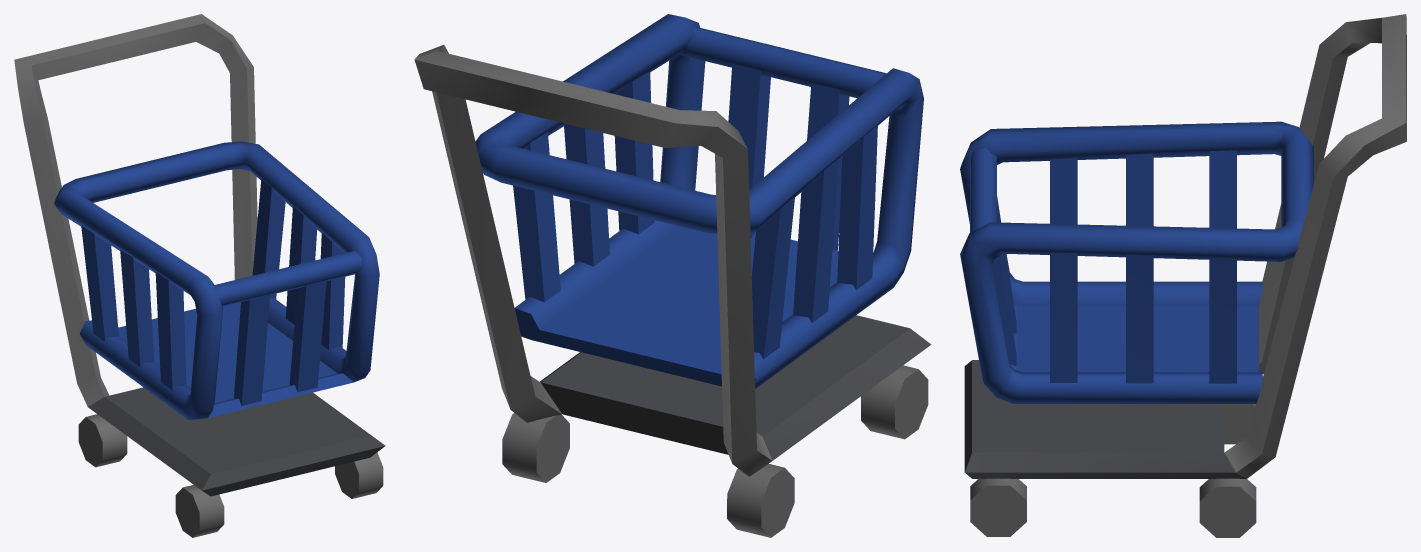
Rendered from trolley_v2.fbx.
3 views of the same model, side by side, from view 1: azimuth 30°, elevation 25°; view 2: azimuth 150°, elevation 25°; view 3: azimuth 270°, elevation 25° (orthographic). The views are drawn at different scales.
Visible parts, largest first — view 1: trolley_v2; view 2: trolley_v2; view 3: trolley_v2.
Boxes of the visible parts, <box> form: trolley_v2: <box>14,14,385,537</box>; trolley_v2: <box>414,14,931,537</box>; trolley_v2: <box>960,14,1406,537</box>.
Bounding box in the file's own units: 62.57 × 90.81 × 88.5.
